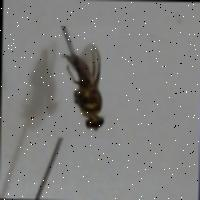Oriental-fruit-fly: (45, 25, 118, 138)
